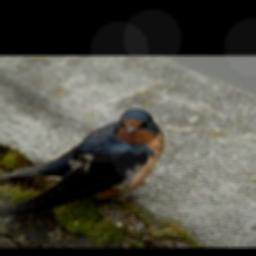Swallow: (0, 107, 166, 216)
